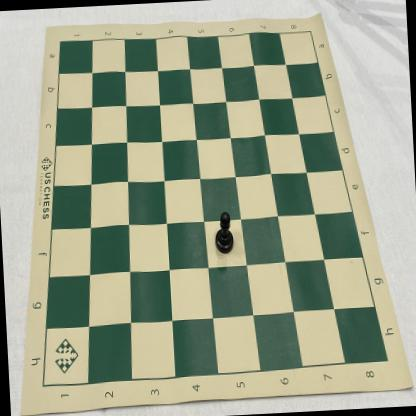pawn: (212, 209, 235, 255)
